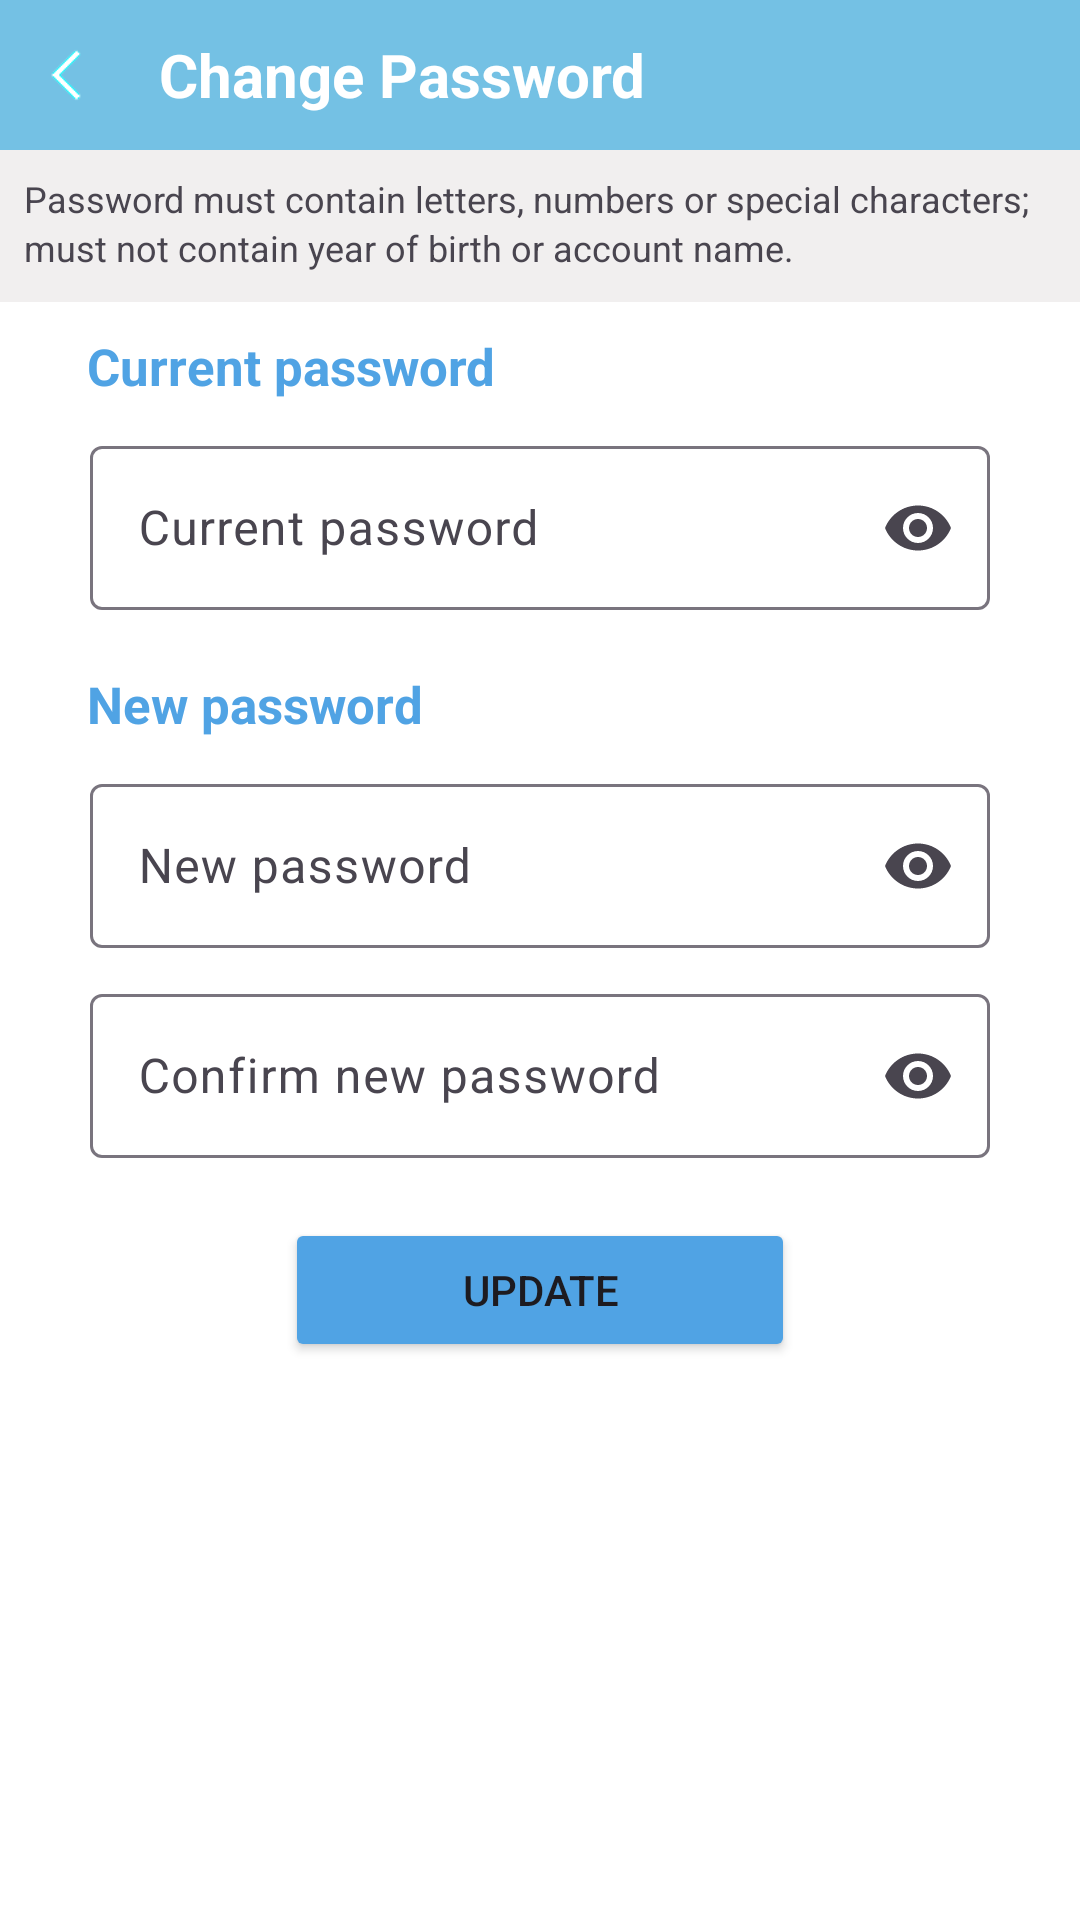

Where to tap for icons on this 1080×1920 app screen, as (x=x, y=y):
left: (x=66, y=75)
